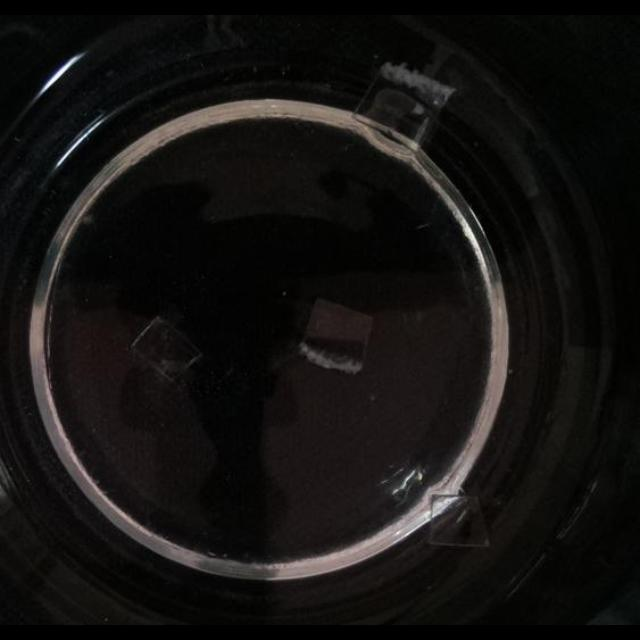Film: (353, 62, 452, 150), (298, 296, 376, 376), (127, 316, 205, 384), (422, 491, 492, 554)
